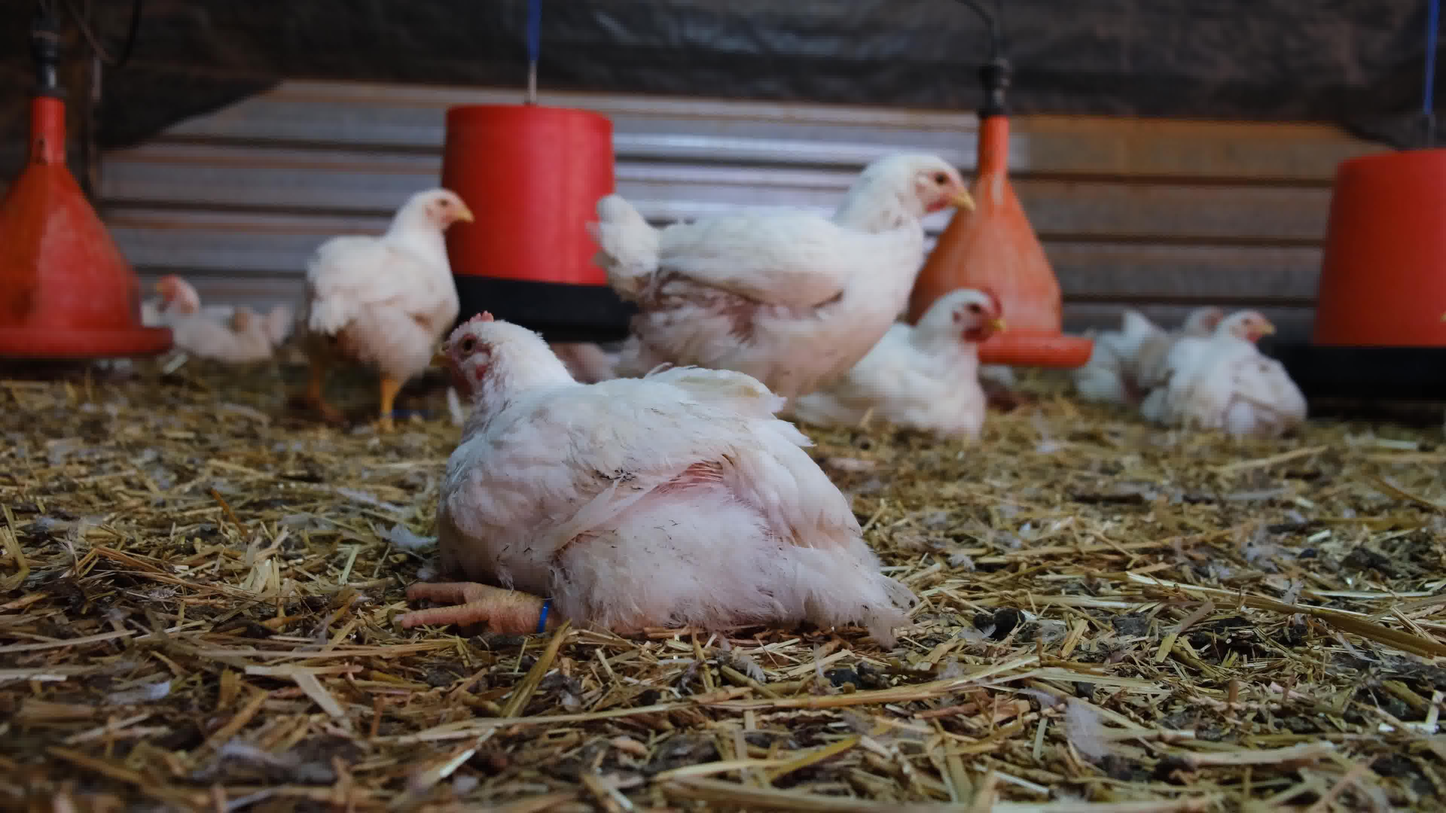AbNormal: (431, 314, 914, 646), (799, 288, 1013, 435), (1140, 311, 1315, 441), (1076, 301, 1232, 417), (145, 275, 295, 371)
Normal: (603, 151, 978, 389), (304, 185, 479, 420)
